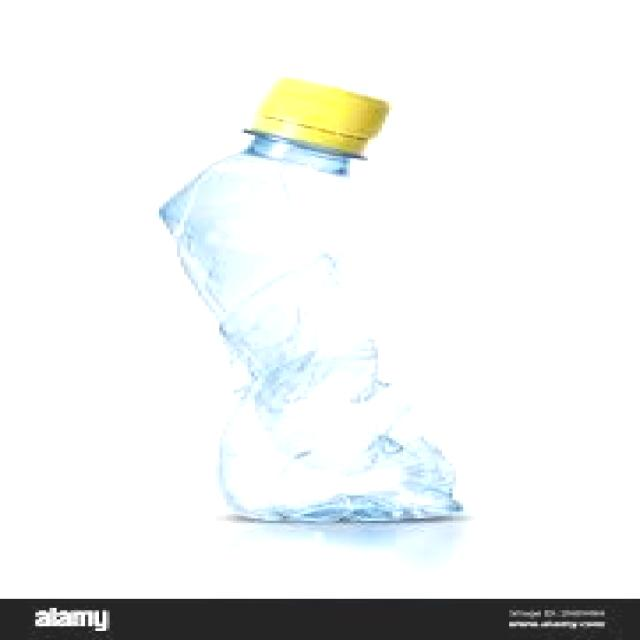bottle: (137, 59, 488, 539)
